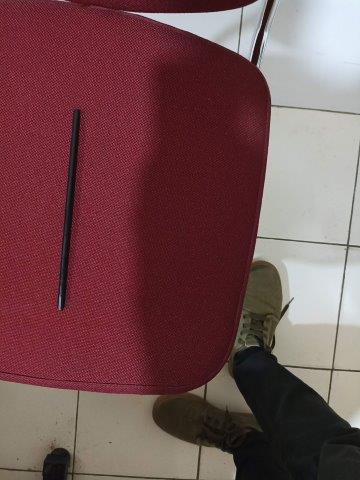sedotan: (57, 110, 80, 309)
